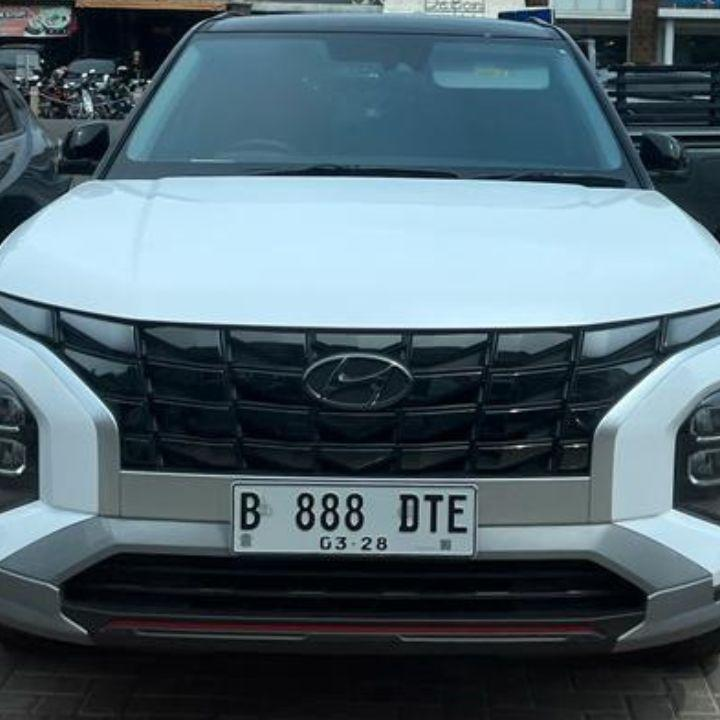plat: (233, 484, 475, 555)
